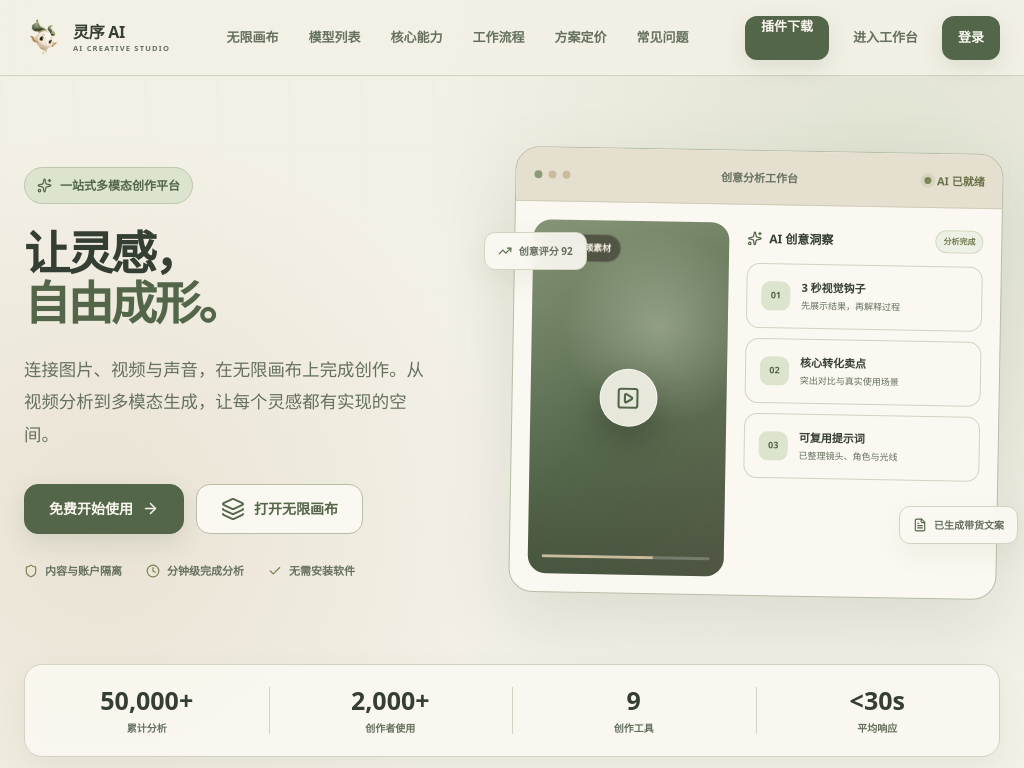
standalone public API model catalog routes › opens the page from the homepage and provides a footer entry for smaller screens
This screenshot has width=1024, height=768.
Click the link "模型列表" at (334, 37), box [308,28,360,46]
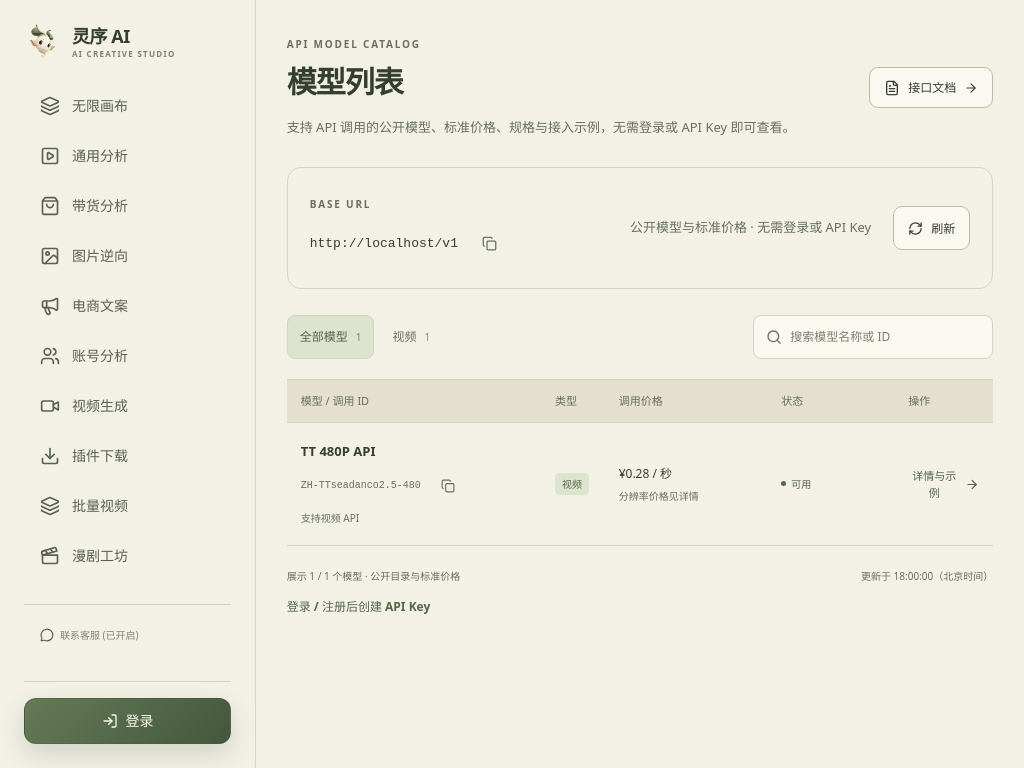
Expected: the heading "模型列表" is shown, [287,61,403,102]
Now the heading "TT 480P API" is shown, box [301,442,376,460]
